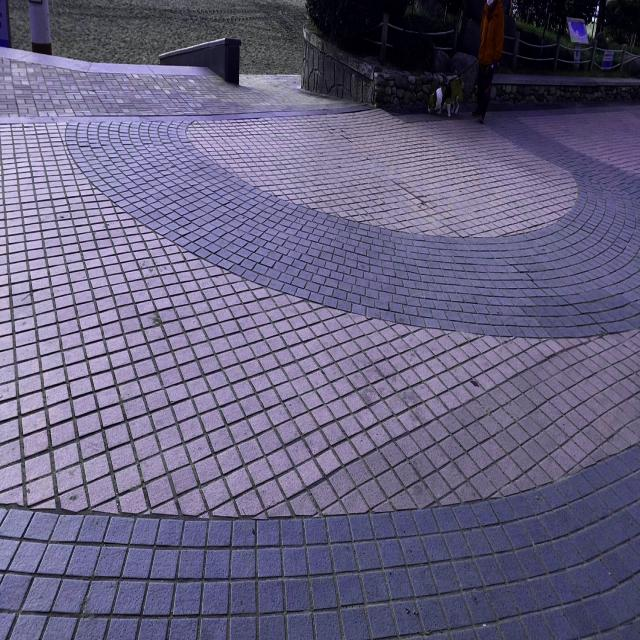Leashed_Dog: (426, 58, 483, 118)
